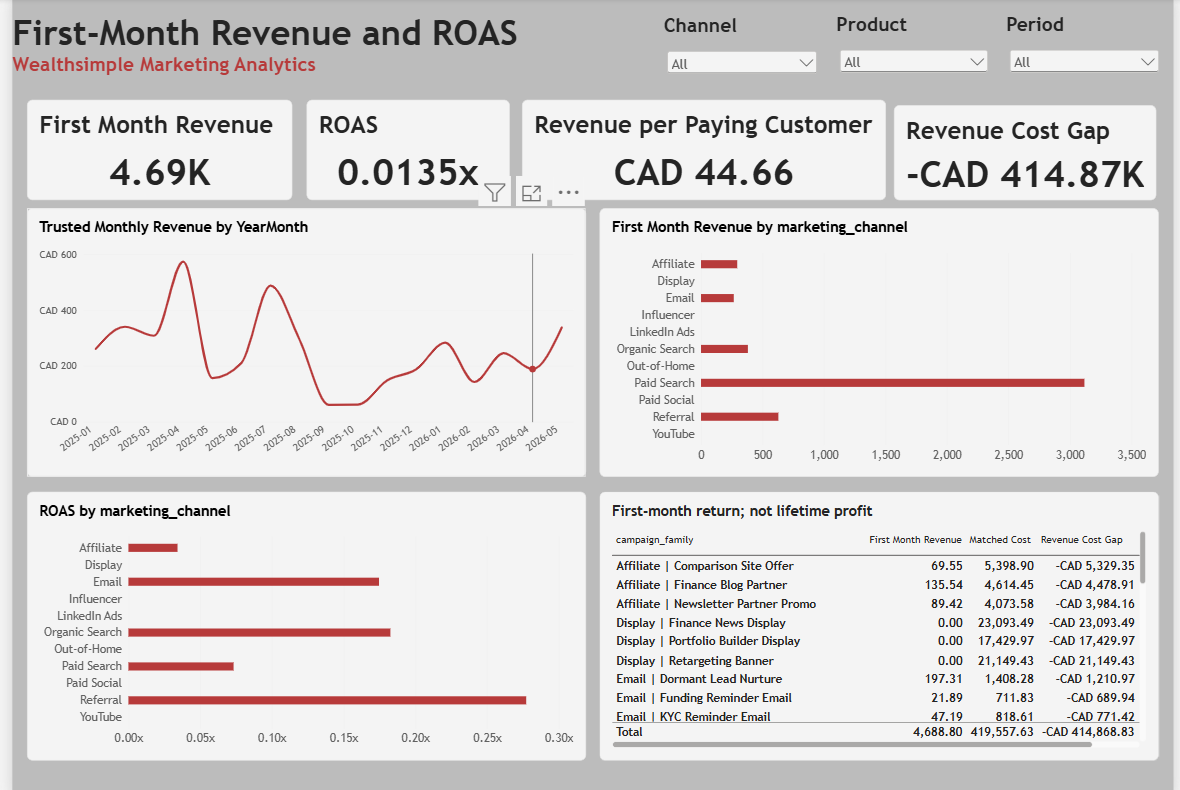

Layout of this report page (visuals, bound fields, positions):
{"tool":"powerbi","page":{"name":"Revenue and ROAS","canvas":[1600,1100],"ordinal":4},"visuals":[{"type":"slicer","title":"Channel","fields":{"Values":["Fact_Campaigns.marketing_channel"]},"box":[898.2,21.8,216.4,105.5],"z":0},{"type":"slicer","title":"Product","fields":{"Values":["Fact_Campaigns.product_focus"]},"box":[1135.9,20.3,214.1,104.7],"z":1000},{"type":"slicer","title":"Period","fields":{"Values":["Dim_Date.YearMonth"]},"box":[1370,20,215,105],"z":2000},{"type":"card","title":"First Month Revenue","fields":{"Values":["Fact_Campaigns.First Month Revenue"]},"box":[20,140,365.5,138.2],"z":3000},{"type":"card","title":"ROAS","fields":{"Values":["Fact_Campaigns.ROAS"]},"box":[405.5,140,280,138.2],"z":4000},{"type":"card","title":"Revenue per Paying Customer","fields":{"Values":["Fact_Campaigns.Revenue per Paying Customer"]},"box":[701.8,140,501.8,138.2],"z":5000},{"type":"card","title":"Revenue Cost Gap","fields":{"Values":["Fact_Campaigns.Revenue Cost Gap"]},"box":[1214.5,147.3,361.8,130.9],"z":6000},{"type":"lineChart","fields":{"Category":["Dim_Date.YearMonth"],"Y":["Fact_Campaigns.Trusted Monthly Revenue"]},"box":[20,290,770,370],"z":7000},{"type":"clusteredBarChart","fields":{"Category":["Fact_Campaigns.marketing_channel"],"Y":["Fact_Campaigns.First Month Revenue"]},"box":[810,290,770,370],"z":8000},{"type":"clusteredBarChart","fields":{"Category":["Fact_Campaigns.marketing_channel"],"Y":["Fact_Campaigns.ROAS"]},"box":[20,680,770,370],"z":9000},{"type":"tableEx","title":"First-month return; not lifetime profit","fields":{"Values":["Fact_Campaigns.campaign_family","Fact_Campaigns.First Month Revenue","Fact_Campaigns.Matched Cost","Fact_Campaigns.Revenue Cost Gap","Fact_Campaigns.ROAS"]},"box":[810,680,770,370],"z":10000},{"type":"textbox","box":[0,20.3,709.4,104.7],"z":11000}]}

Visuals, with their boxes in screenshot pixels (x1, y1, x2, y2), scaled from the page's 1600x1100 canvas onto the 1180x790 screenshot:
"Channel" slicer: l=662, t=16, r=822, b=91
"Product" slicer: l=838, t=15, r=996, b=90
"Period" slicer: l=1010, t=14, r=1169, b=90
"First Month Revenue" card: l=15, t=101, r=284, b=200
"ROAS" card: l=299, t=101, r=506, b=200
"Revenue per Paying Customer" card: l=518, t=101, r=888, b=200
"Revenue Cost Gap" card: l=896, t=106, r=1163, b=200
lineChart - Dim_Date.YearMonth x Fact_Campaigns.Trusted Monthly Revenue: l=15, t=208, r=583, b=474
clusteredBarChart - Fact_Campaigns.marketing_channel x Fact_Campaigns.First Month Revenue: l=597, t=208, r=1165, b=474
clusteredBarChart - Fact_Campaigns.marketing_channel x Fact_Campaigns.ROAS: l=15, t=488, r=583, b=754
"First-month return; not lifetime profit" tableEx: l=597, t=488, r=1165, b=754
textbox: l=0, t=15, r=523, b=90
